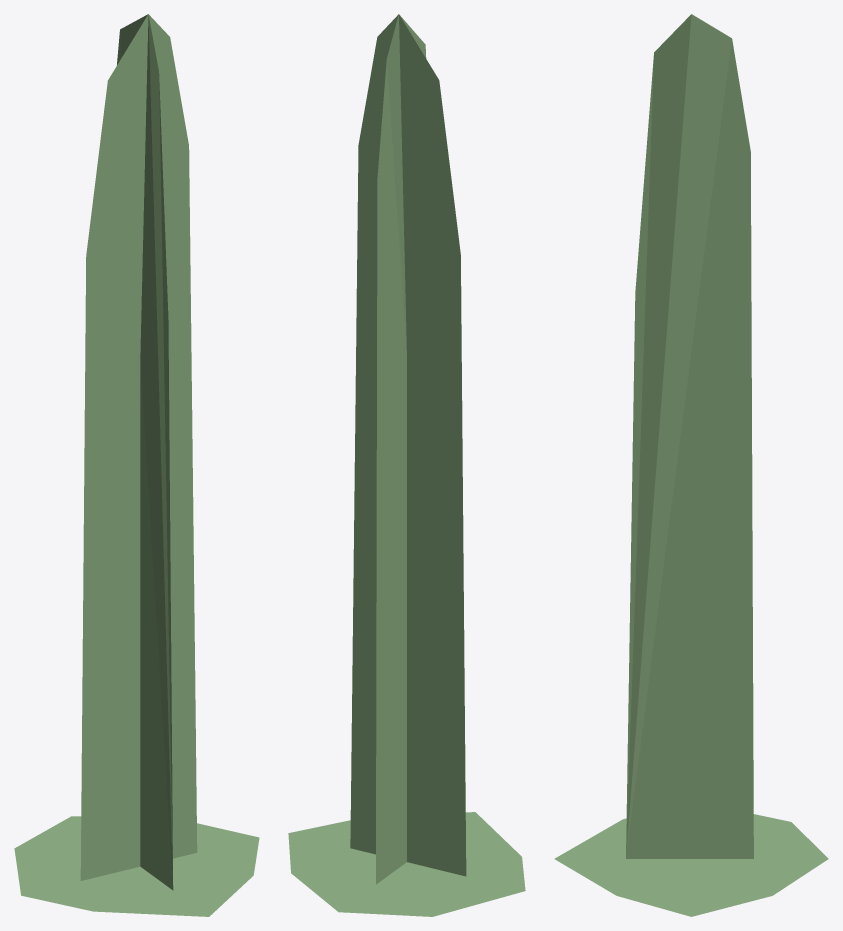
File: cac1.glb
The picture shows the model from 3 angles, left to right: view 1: azimuth 30°, elevation 25°; view 2: azimuth 150°, elevation 25°; view 3: azimuth 270°, elevation 25°; orthographic projection.
Parts seen in each view (by area): view 1: cac1; view 2: cac1; view 3: cac1.
Part boxes in pixels (bbox=[...]): cac1: bbox=[14, 14, 259, 916]; cac1: bbox=[288, 14, 525, 916]; cac1: bbox=[554, 14, 828, 916].
Size of the model in its own units: 0.704 by 2.4 by 0.704.
